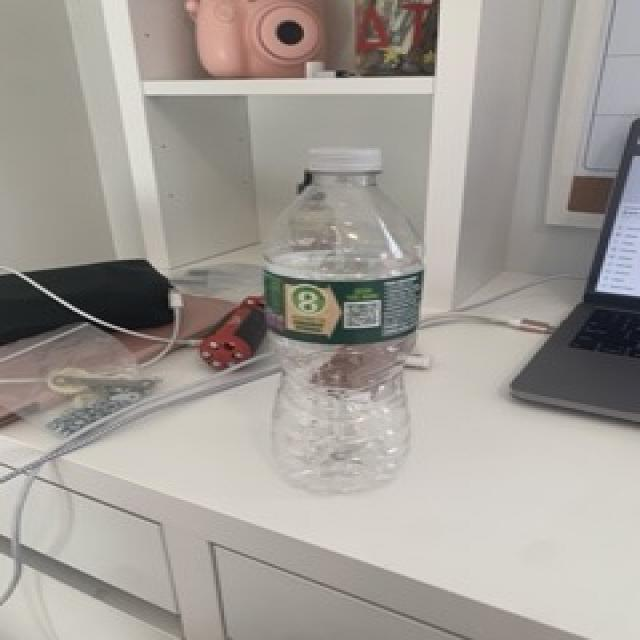water_bottle: (258, 144, 433, 501)
